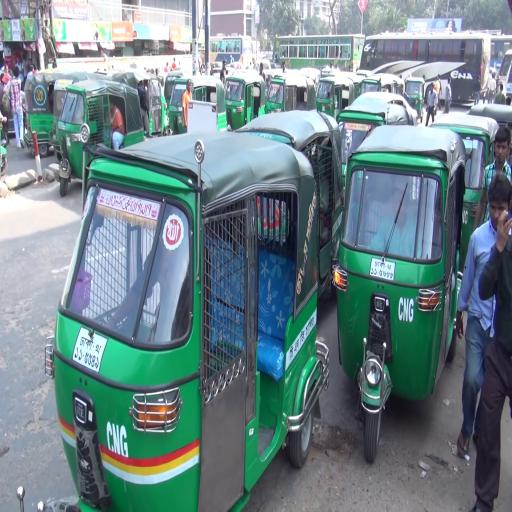bus: (362, 32, 493, 108), (335, 102, 422, 207), (273, 32, 366, 81), (210, 35, 253, 81), (491, 33, 512, 90), (497, 50, 512, 93)
car: (351, 91, 419, 125)
three wheelers (CNG): (44, 131, 324, 512), (336, 122, 465, 462), (234, 109, 346, 304), (430, 113, 499, 286), (57, 81, 148, 196), (51, 72, 109, 176), (116, 66, 172, 140), (172, 74, 229, 138), (24, 63, 62, 158), (469, 102, 512, 181), (173, 78, 227, 139), (225, 64, 267, 136), (265, 73, 319, 129), (318, 71, 355, 129), (267, 73, 317, 114), (317, 76, 358, 119), (165, 63, 186, 127), (405, 73, 426, 130), (360, 71, 395, 100)
